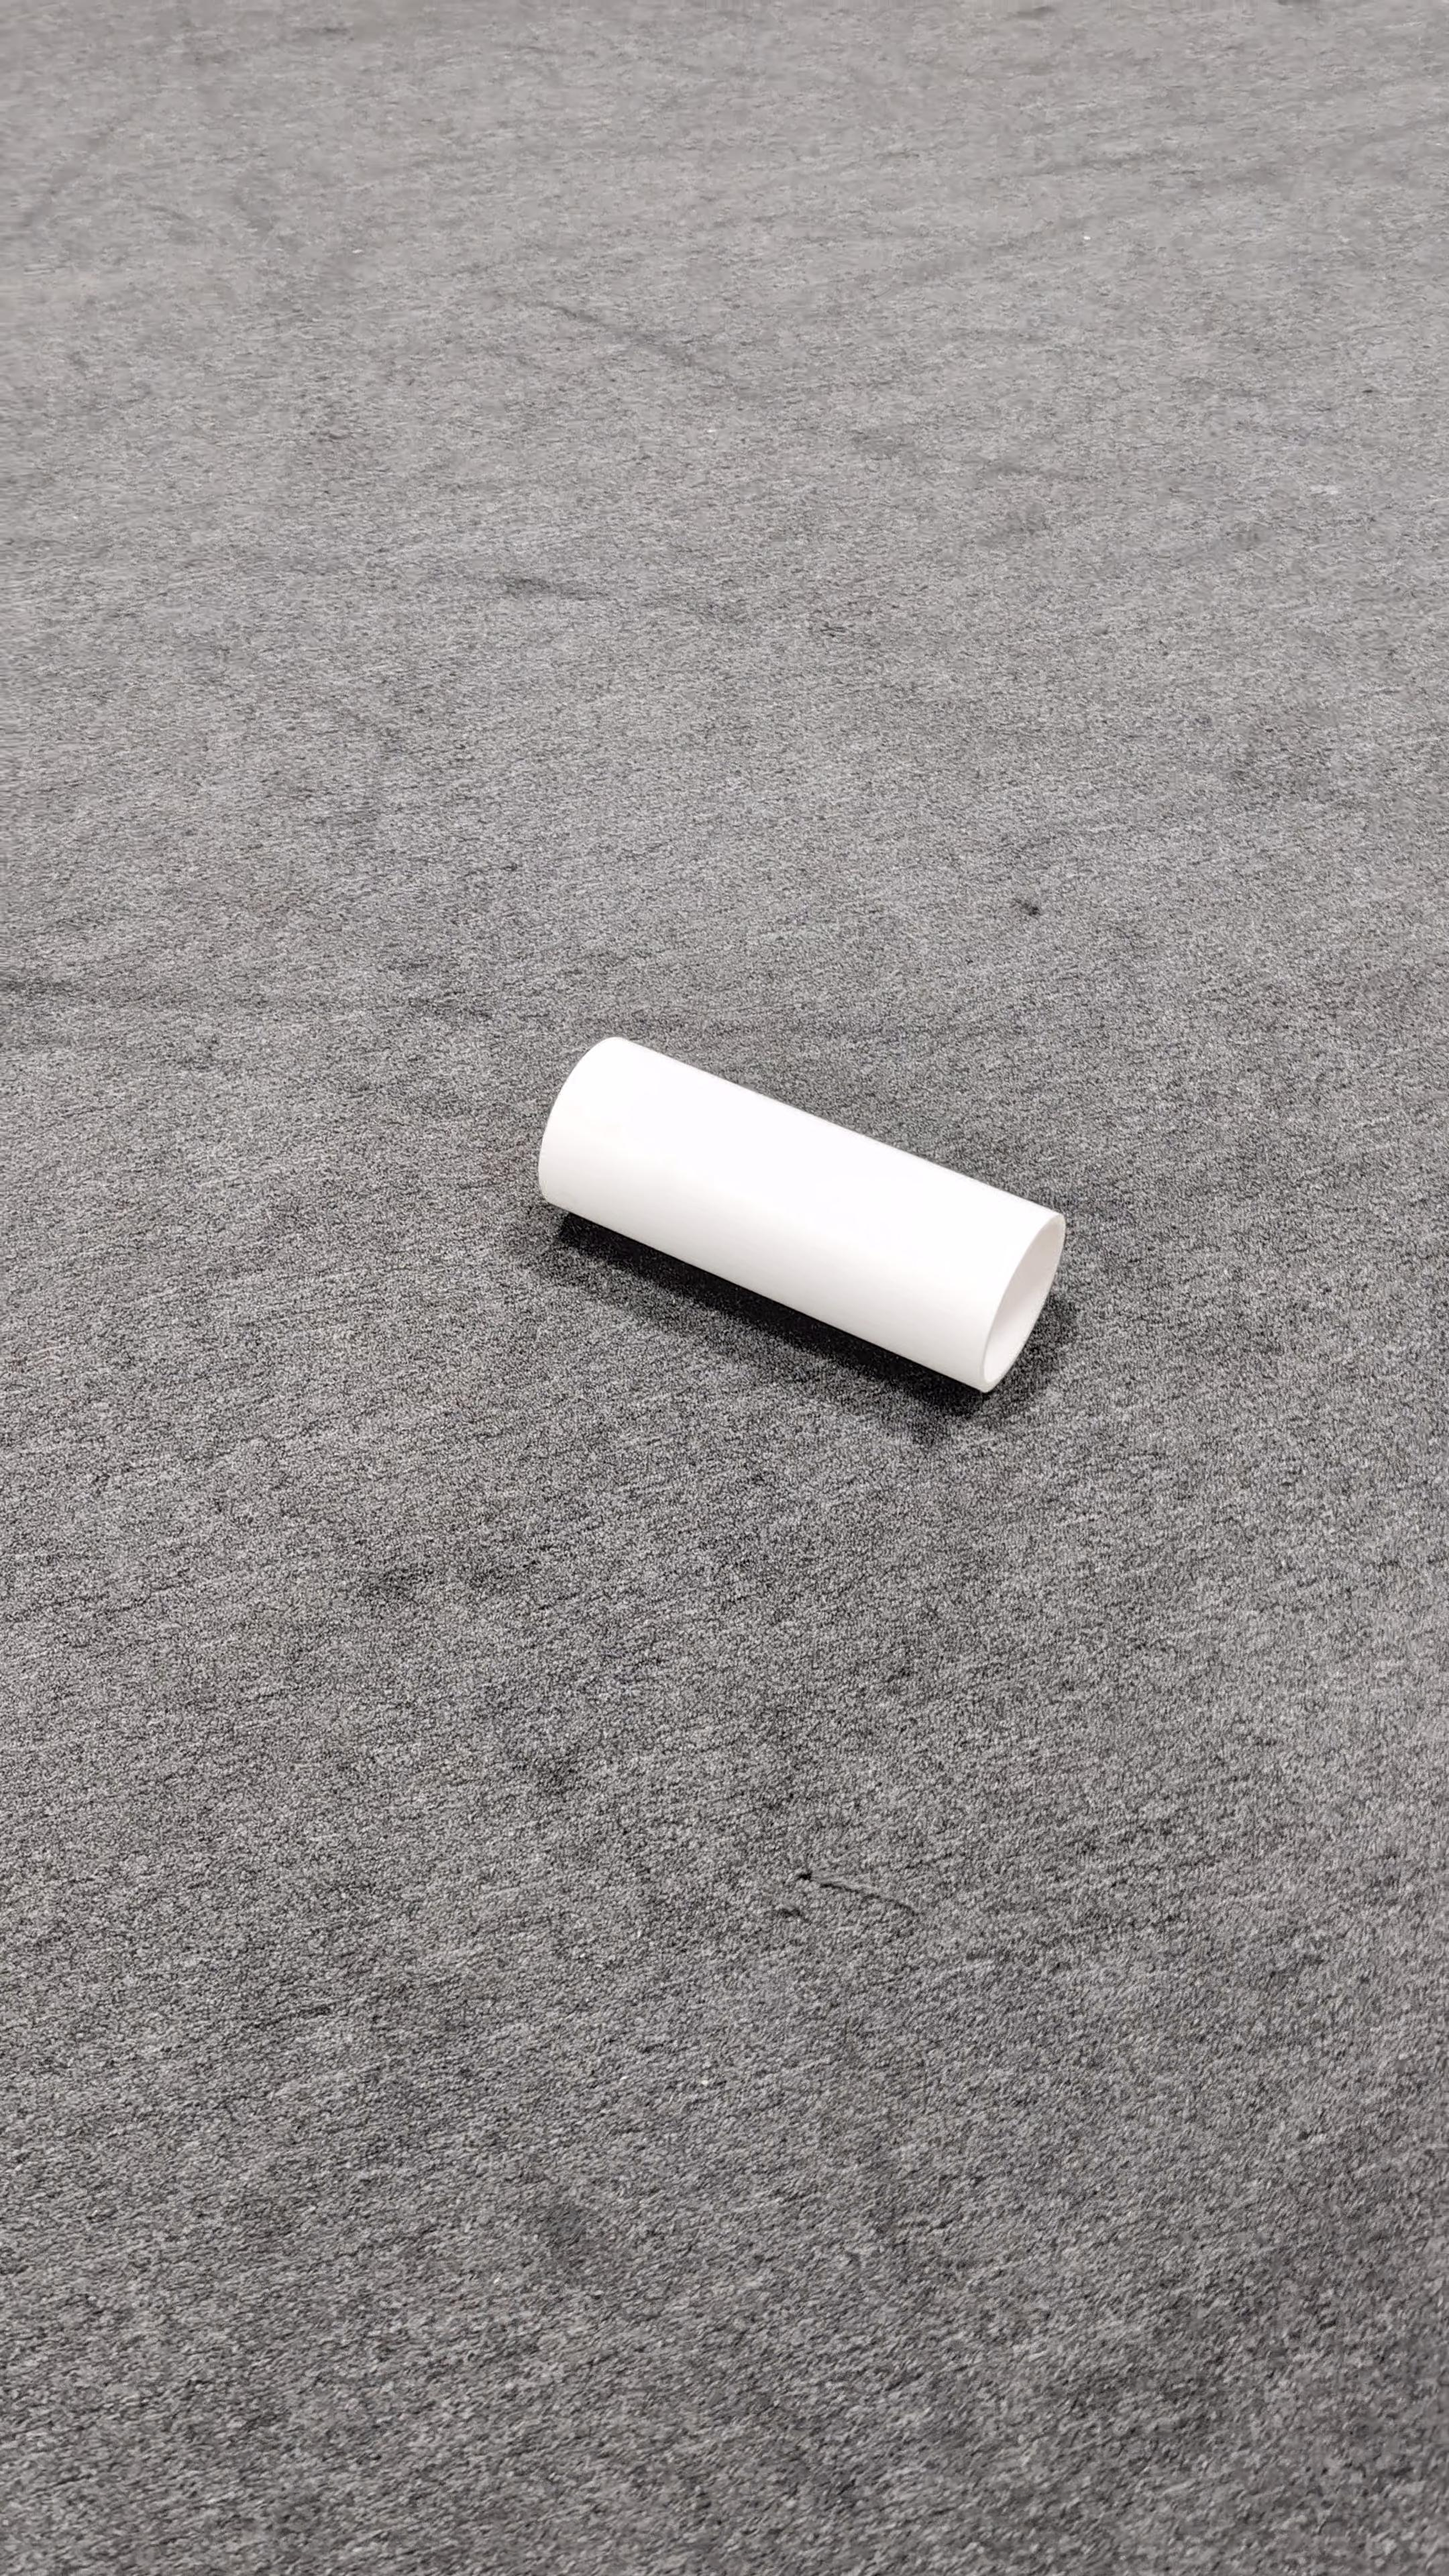coral: (536, 1030, 1072, 1394)
